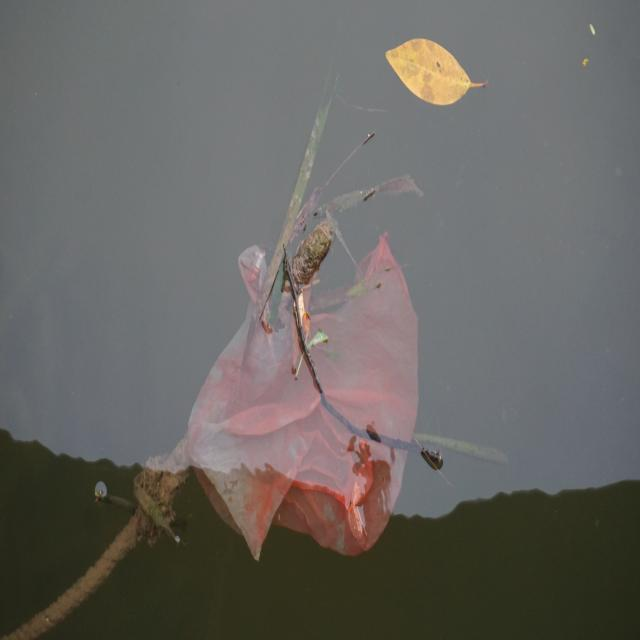Kantong Plastik: (188, 227, 421, 564)
